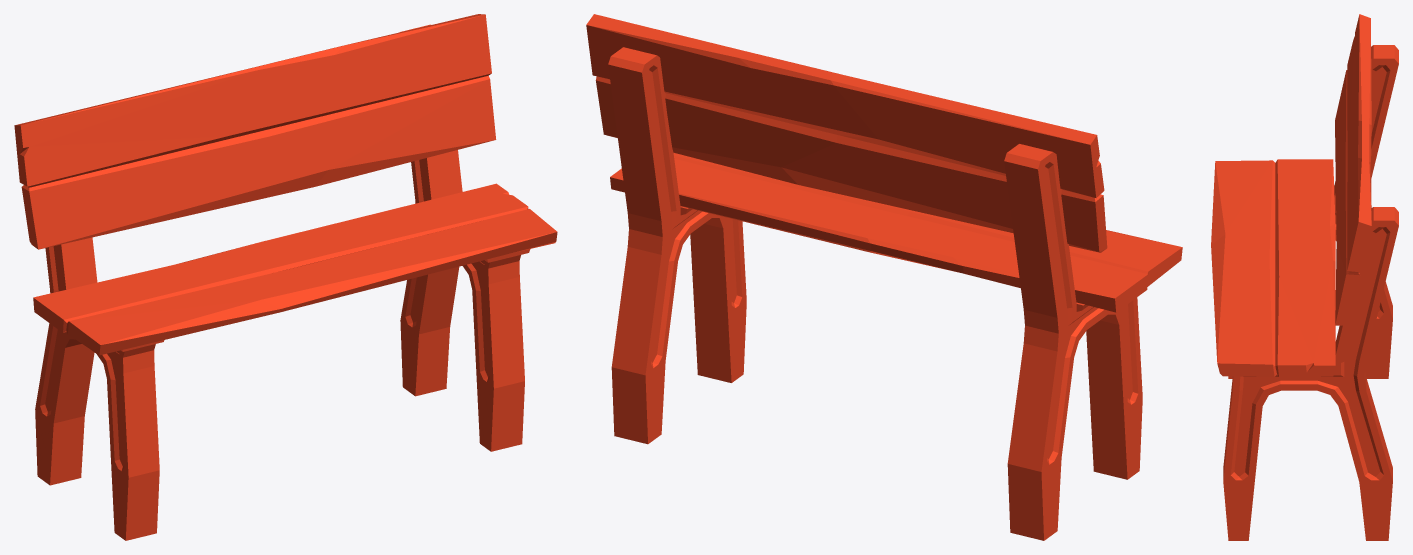
File: SM_Bench_C_City.fbx
The picture shows the model from 3 angles, left to right: view 1: azimuth 30°, elevation 25°; view 2: azimuth 150°, elevation 25°; view 3: azimuth 270°, elevation 25°; orthographic projection. The views are drawn at different scales.
Parts seen in each view (by area): view 1: SM_Bench_C_City; view 2: SM_Bench_C_City; view 3: SM_Bench_C_City.
Boxes of the visible parts, <box> form: SM_Bench_C_City: <box>14,14,557,540</box>; SM_Bench_C_City: <box>586,14,1182,540</box>; SM_Bench_C_City: <box>1211,14,1398,540</box>.
Size of the model in its own units: 1.65 by 1.25 by 0.6322.
